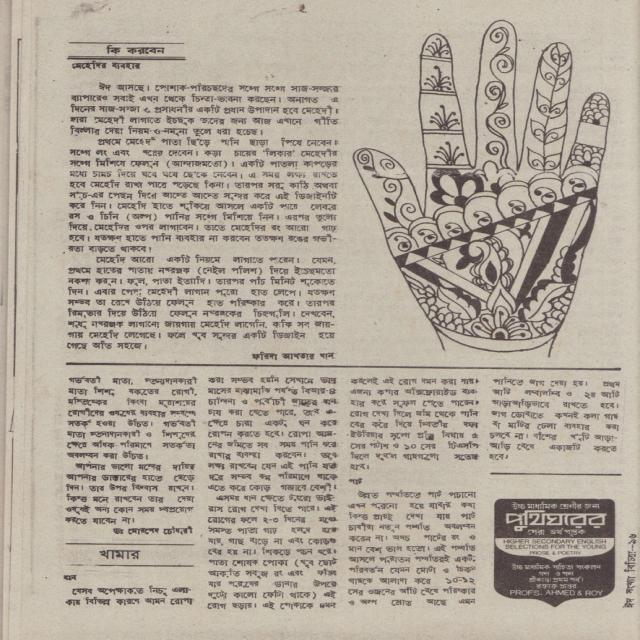advertisement: (495, 499, 615, 606)
image: (354, 20, 610, 351)
page number: (628, 532, 639, 549)
paragraph: (54, 135, 344, 255), (203, 372, 344, 613), (57, 253, 343, 353), (61, 76, 356, 137), (344, 487, 486, 611), (347, 374, 483, 473), (485, 372, 627, 465), (58, 372, 201, 461), (57, 460, 199, 526), (63, 582, 200, 611)
text: (80, 523, 201, 539), (623, 548, 639, 608), (252, 351, 336, 361)
title: (69, 60, 142, 72), (107, 44, 167, 56), (99, 549, 139, 560), (55, 573, 83, 585), (346, 476, 368, 487)
